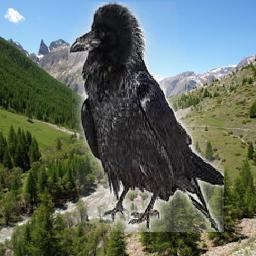Crow: (68, 2, 224, 232)
